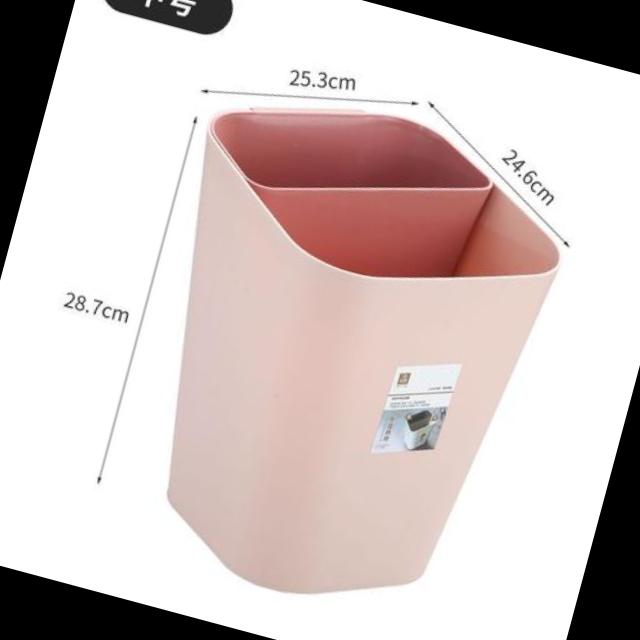dustbin: (90, 65, 591, 640)
